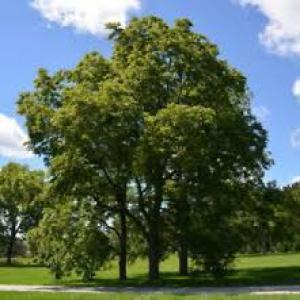Tree: (16, 12, 270, 275)
